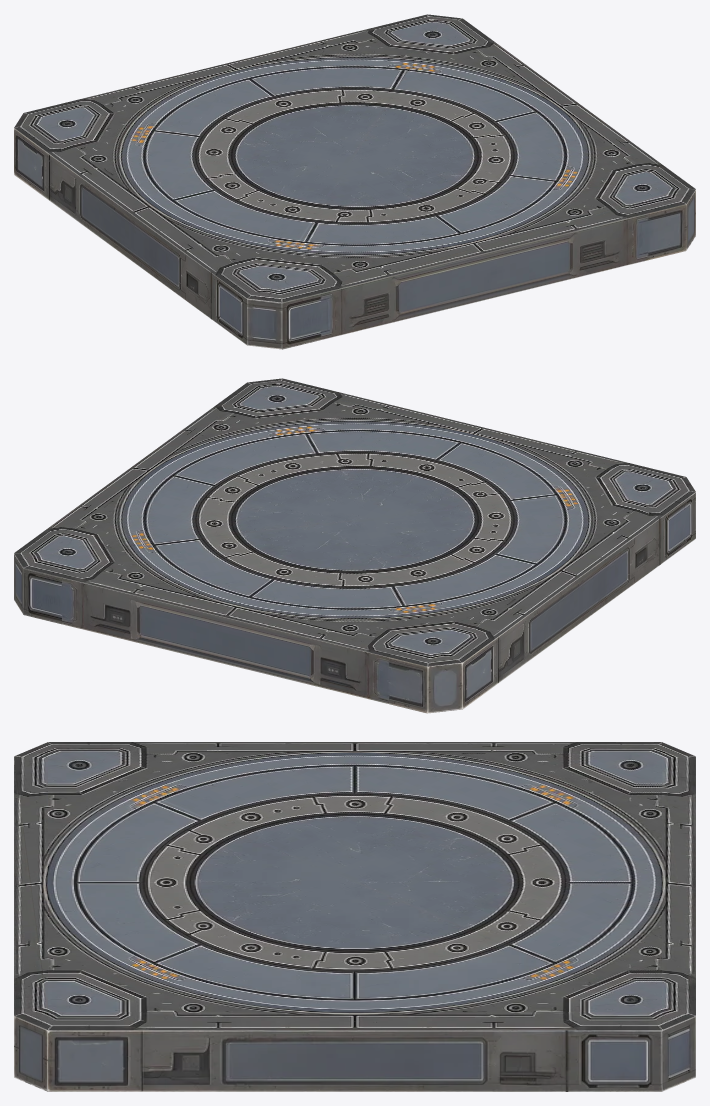
Rendered from floor_2.glb.
3 views of the same model, one above another, from view 1: azimuth 30°, elevation 25°; view 2: azimuth 150°, elevation 25°; view 3: azimuth 270°, elevation 25° (orthographic). The views are drawn at different scales.
Parts seen in each view (by area): view 1: mesh_node; view 2: mesh_node; view 3: mesh_node.
Boxes of the visible parts, x1=… form: mesh_node: x1=14, y1=14, x2=695, y2=349; mesh_node: x1=14, y1=378, x2=695, y2=713; mesh_node: x1=14, y1=742, x2=695, y2=1091.
Size of the model in its own units: 2 by 0.2219 by 2.
Materials: 1 (1 with a texture image).
